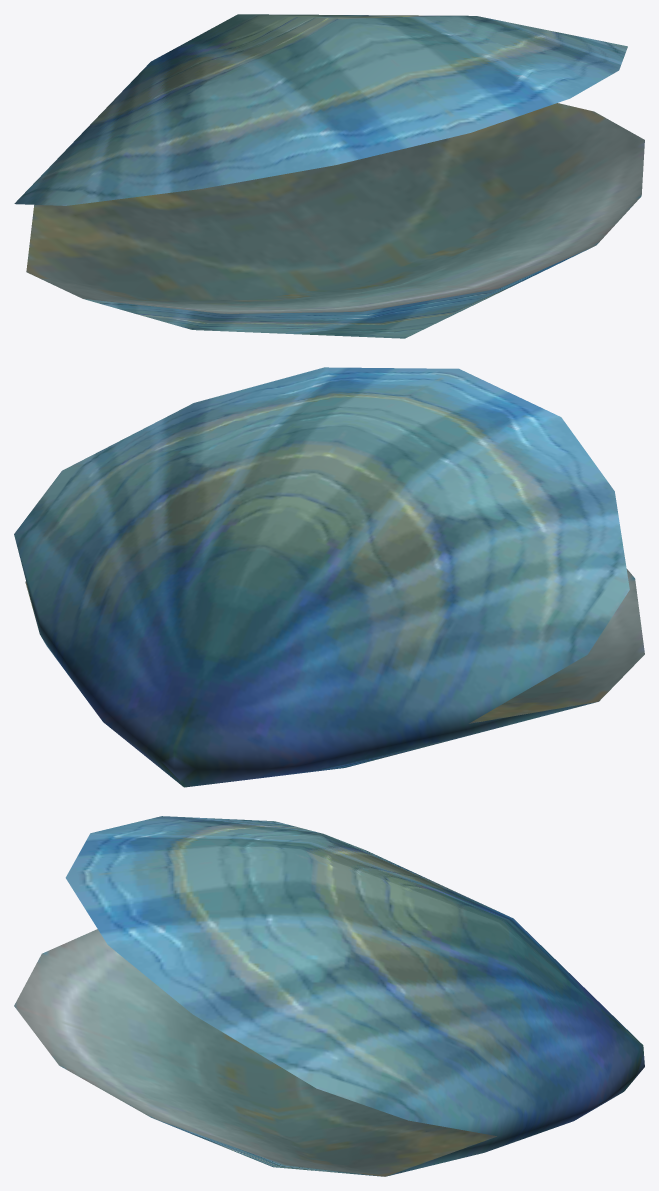
Rendered from map_113_wujian_3.fbx.
3 renders of one model, top to bottom at view 1: azimuth 30°, elevation 25°; view 2: azimuth 150°, elevation 25°; view 3: azimuth 270°, elevation 25°, orthographic. The views are drawn at different scales.
Parts seen in each view (by area): view 1: map_113_wujian_3; view 2: map_113_wujian_3; view 3: map_113_wujian_3.
Boxes of the visible parts, x1,y1,x2,y2 form: map_113_wujian_3: (14, 14, 644, 338); map_113_wujian_3: (14, 367, 644, 787); map_113_wujian_3: (14, 816, 644, 1176).
Size of the model in its own units: 1.06 by 0.5201 by 1.04.
